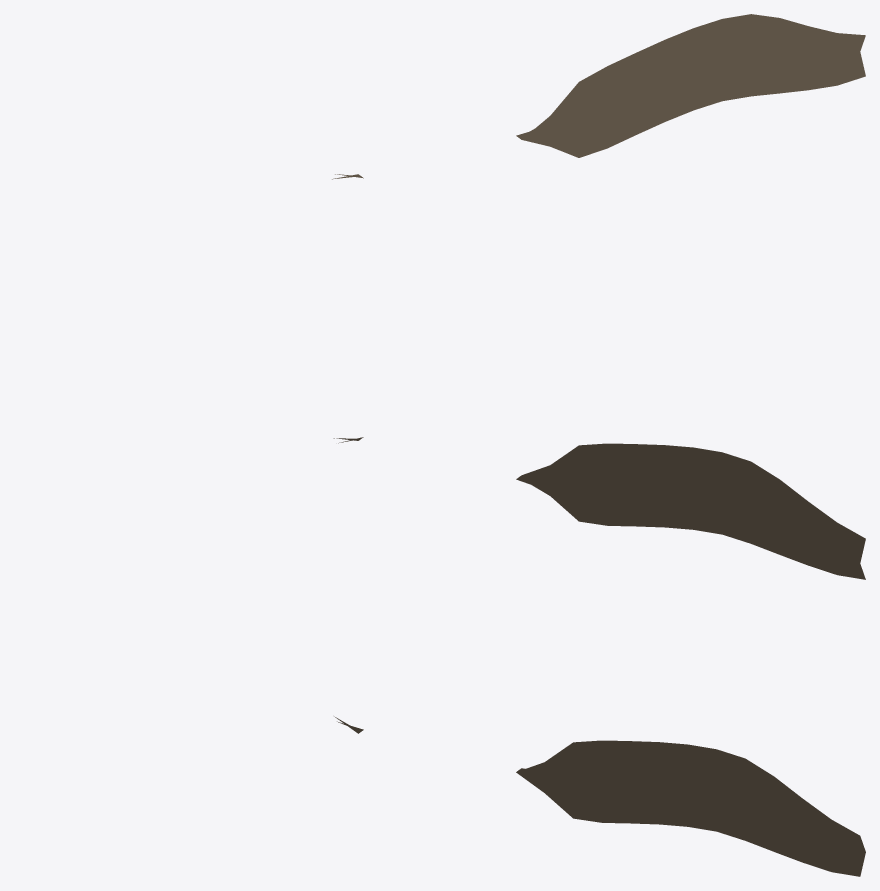
File: natural.glb
The picture shows the model from 3 angles, top to bottom: view 1: azimuth 30°, elevation 25°; view 2: azimuth 150°, elevation 25°; view 3: azimuth 330°, elevation 25°; orthographic projection.
Visible parts, largest first — view 1: eyebrows_natural; view 2: eyebrows_natural; view 3: eyebrows_natural.
Part boxes in pixels (left/top/right/bottom): eyebrows_natural: left=332, top=14, right=865, bottom=179; eyebrows_natural: left=333, top=437, right=865, bottom=579; eyebrows_natural: left=334, top=716, right=865, bottom=876.
Bounding box in the file's own units: 0.86 × 0.1013 × 0.01.
